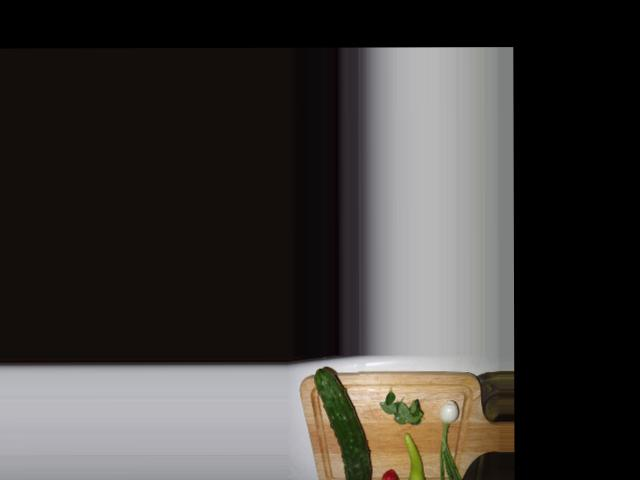cucumber: (314, 367, 370, 480)
